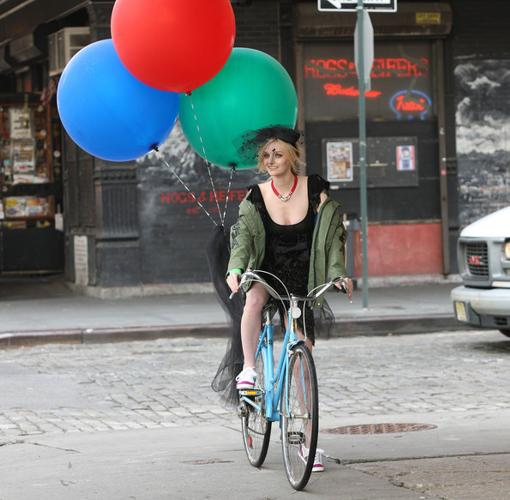person: (226, 125, 354, 475)
